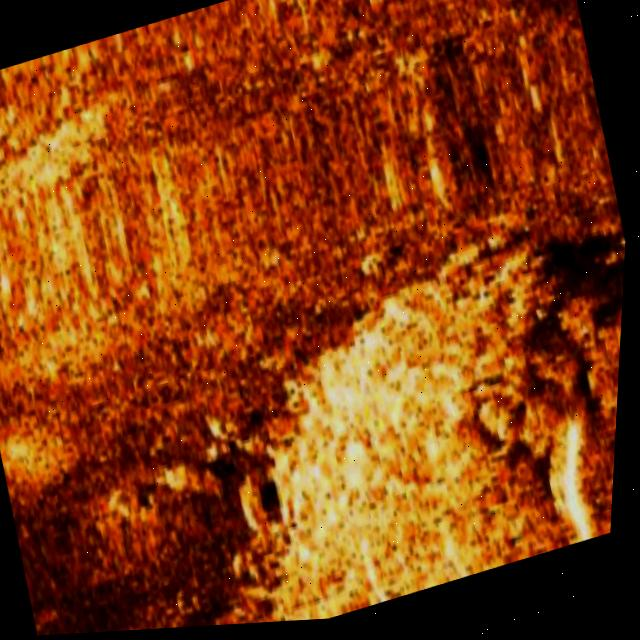bedrock group: (162, 196, 631, 631)
